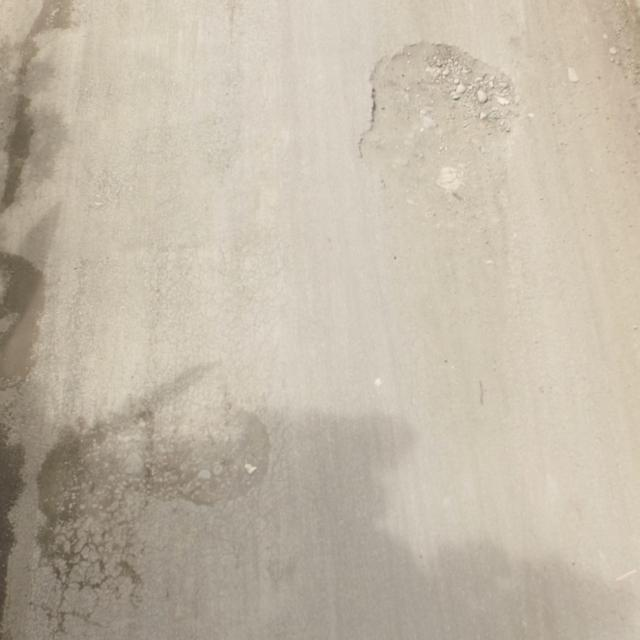BACHE: (364, 42, 521, 196), (140, 379, 271, 506), (39, 422, 137, 517)
PIEL DE COCODRILO: (35, 520, 150, 639), (224, 197, 283, 339)
